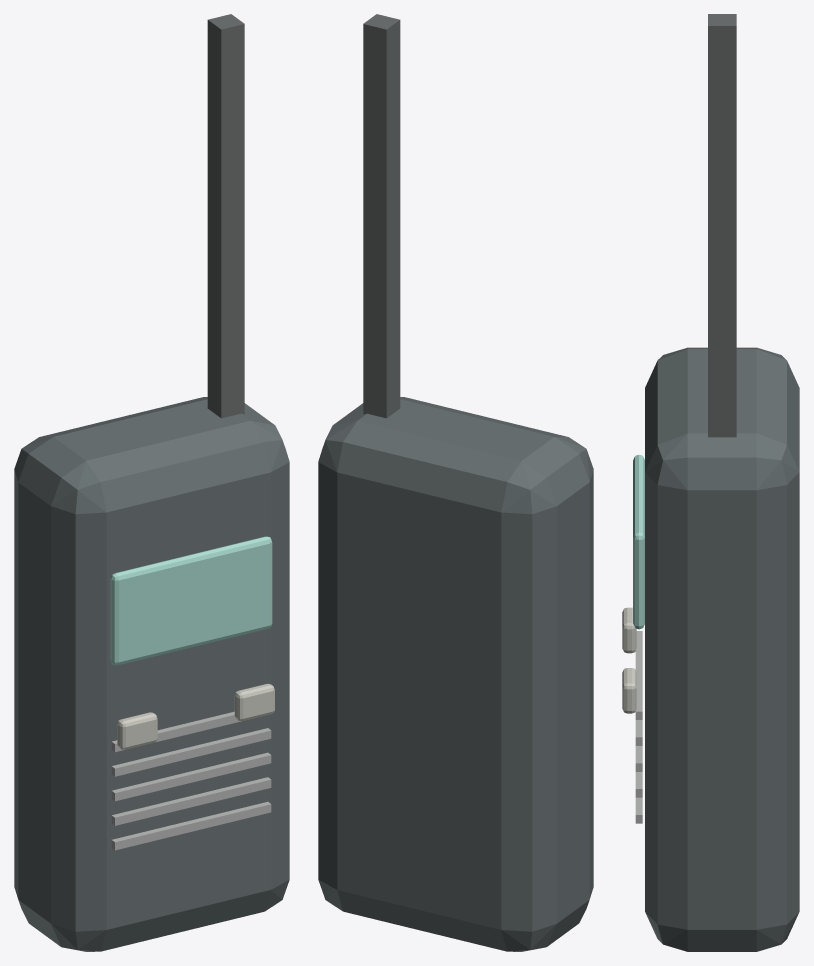
File: F1_HandRadio.fbx
3 renders of one model, left to right at view 1: azimuth 30°, elevation 25°; view 2: azimuth 150°, elevation 25°; view 3: azimuth 270°, elevation 25°, orthographic. The views are drawn at different scales.
Parts seen in each view (by area): view 1: F1_HandRadio_LOD0; view 2: F1_HandRadio_LOD0; view 3: F1_HandRadio_LOD0.
Boxes of the visible parts, x1=… form: F1_HandRadio_LOD0: x1=14, y1=14, x2=289, y2=951; F1_HandRadio_LOD0: x1=318, y1=14, x2=593, y2=951; F1_HandRadio_LOD0: x1=622, y1=14, x2=799, y2=951.
Size of what is drawn, in the model's own units: 12 by 43 by 7.45.
